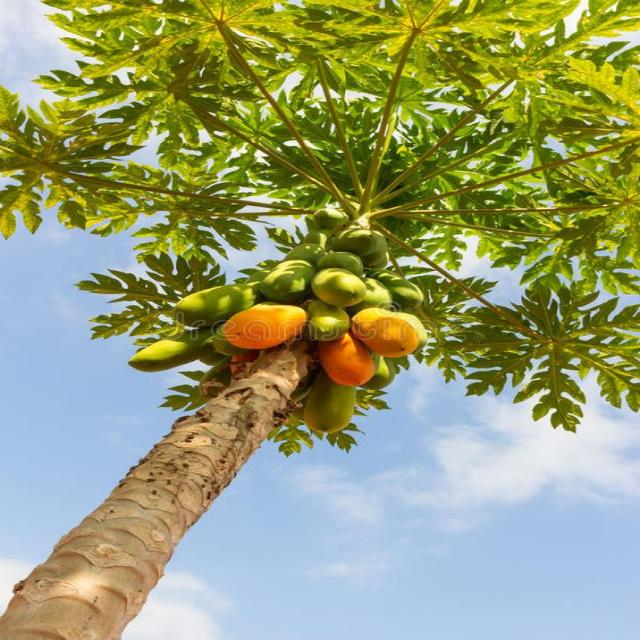Papaya-Tree: (15, 2, 640, 545)
